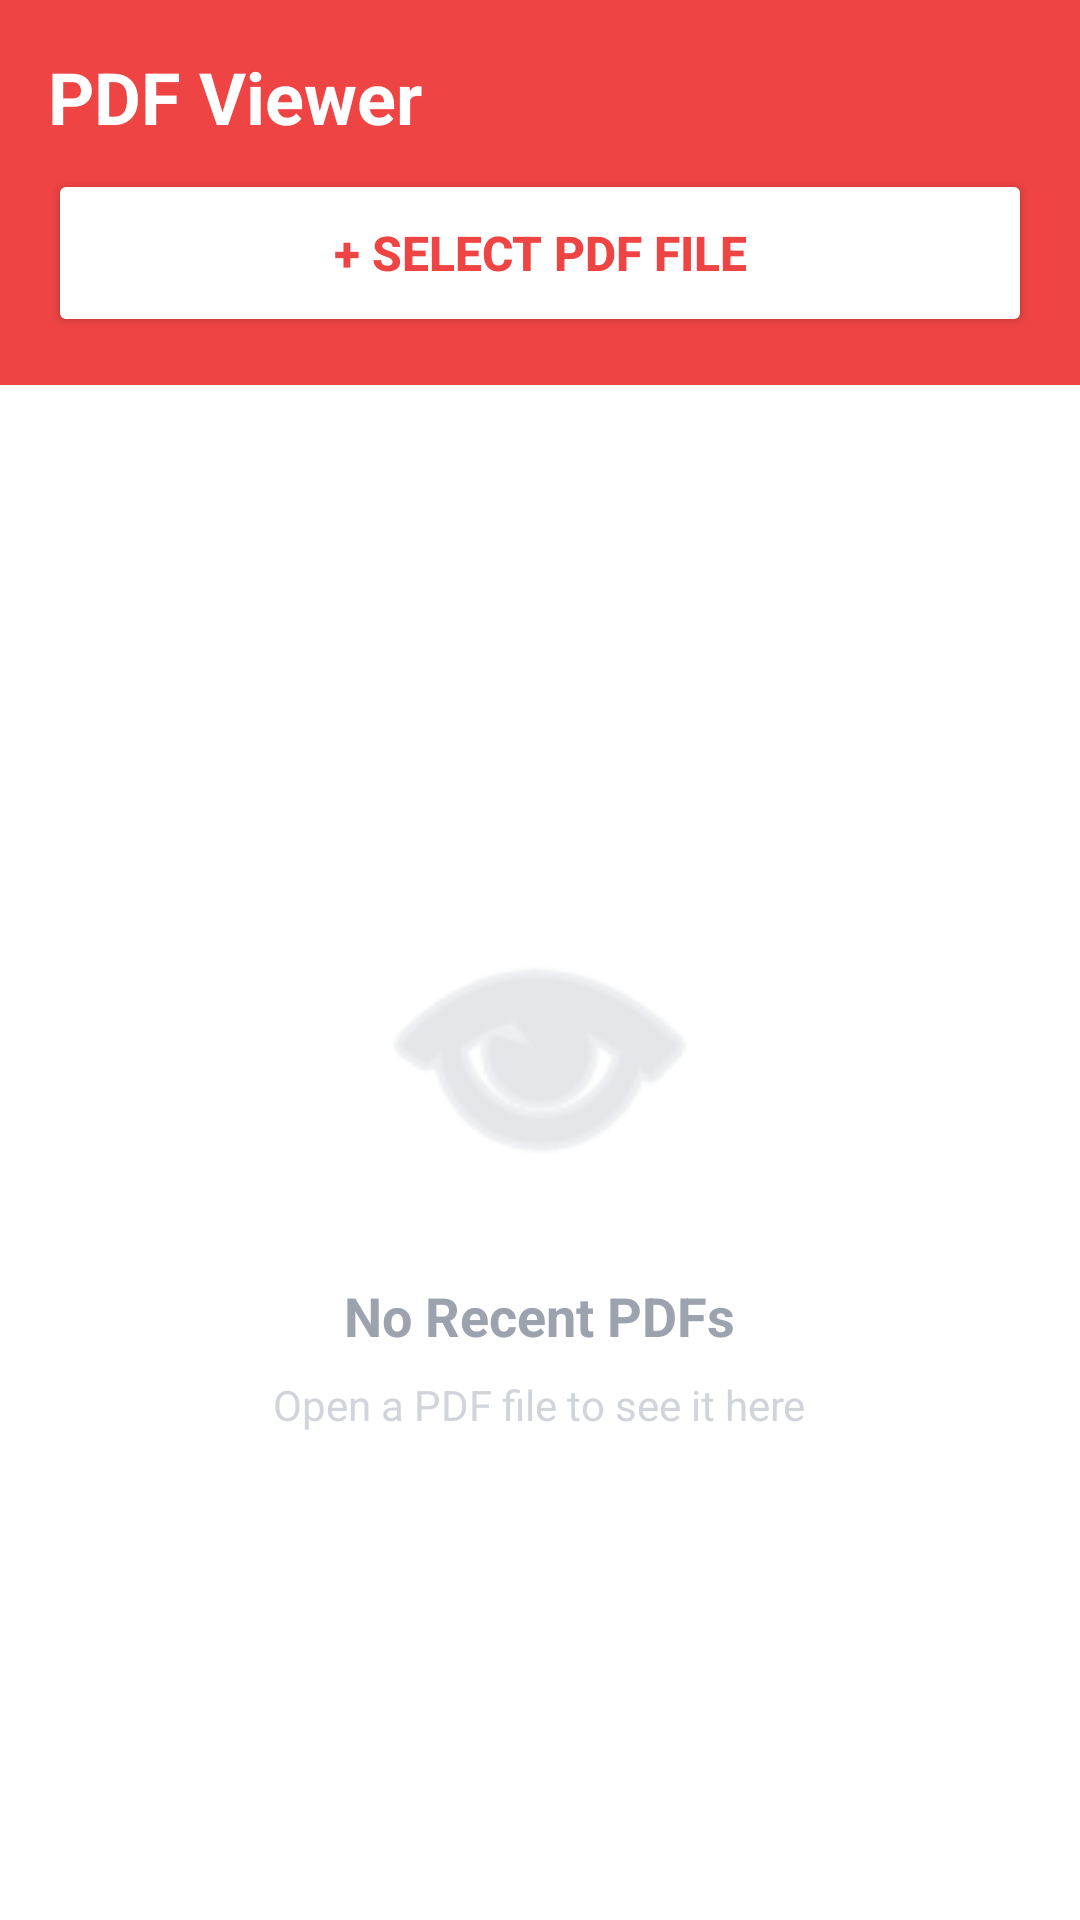

Where to tap for icons on this 1080x1920 app screen, as point (x, y):
view: point (540, 1060)
